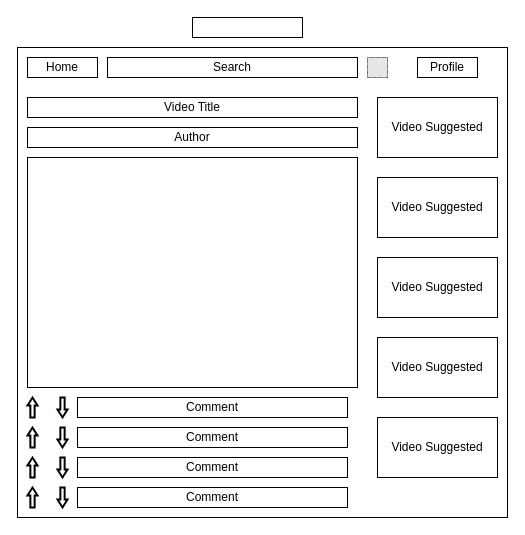
Some shapes in this 525 by 535 pixel diagram are drawn without their labels. Grey dashed boxes stand in for pictures. Each missing label, with the centre of its shape:
Video: (x=192, y=272)
Video Page: (x=247, y=27)
